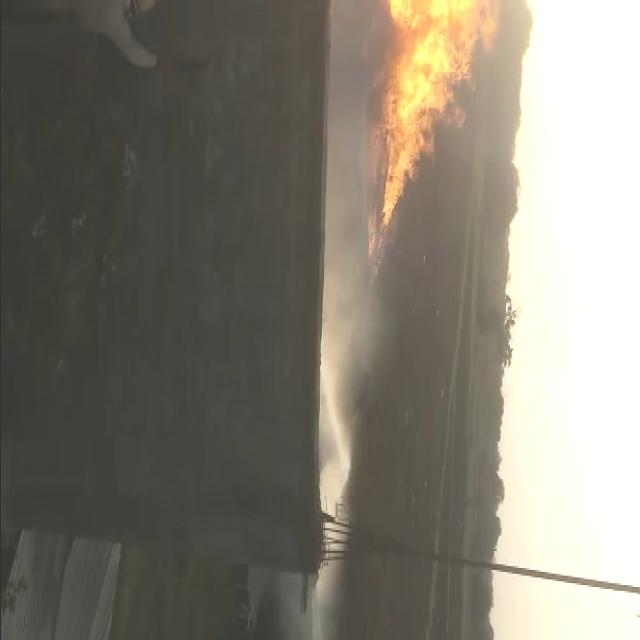firerotation: (366, 0, 500, 284)
